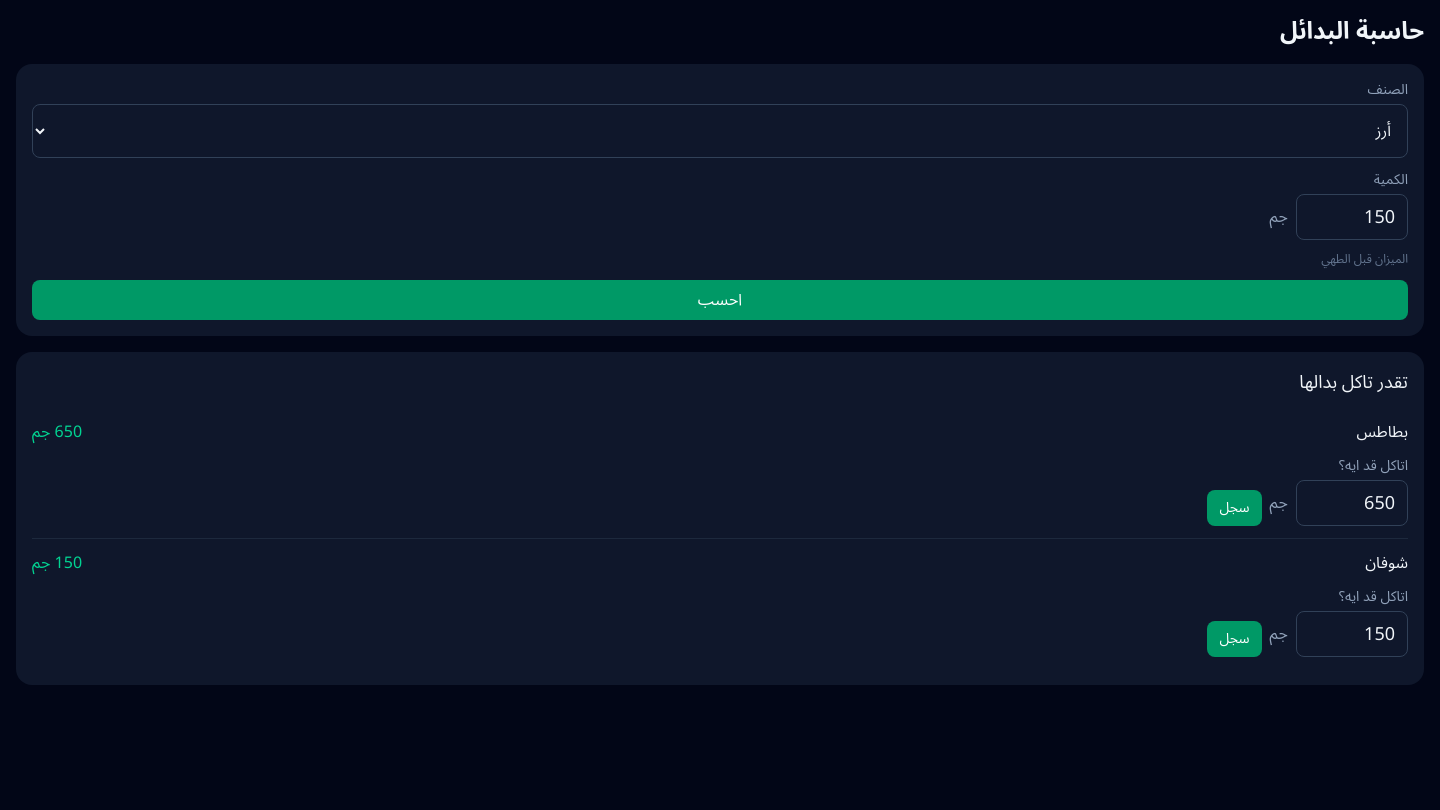
it: SwapScreen logging › says the line is finished when the substitute covers all of it
Click the button "سجل" below "بطاطس". click: click(1235, 508)
box: [1208,490,1262,526]
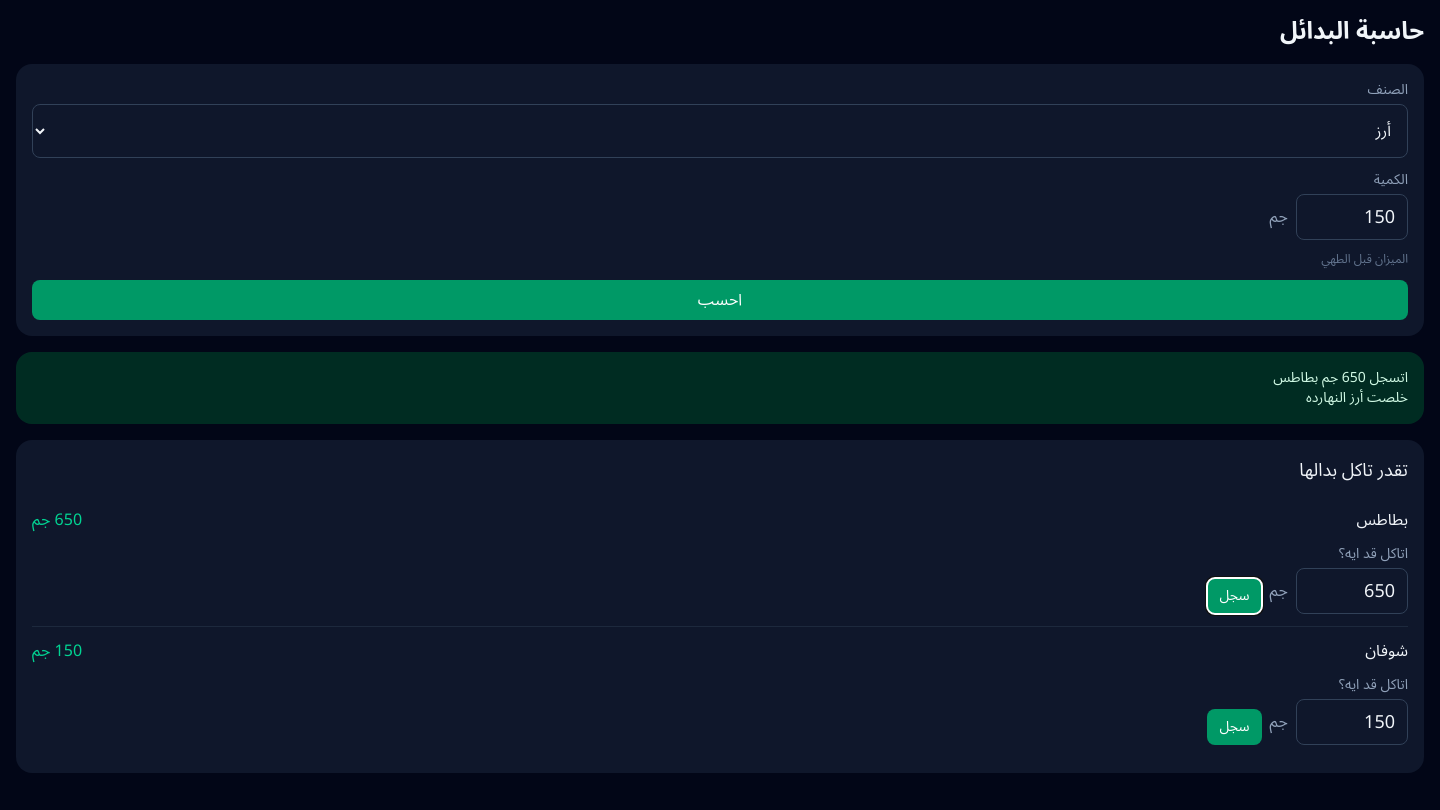
Expected: the message shows "خلصت أرز النهارده", [1306,383,1408,412]
